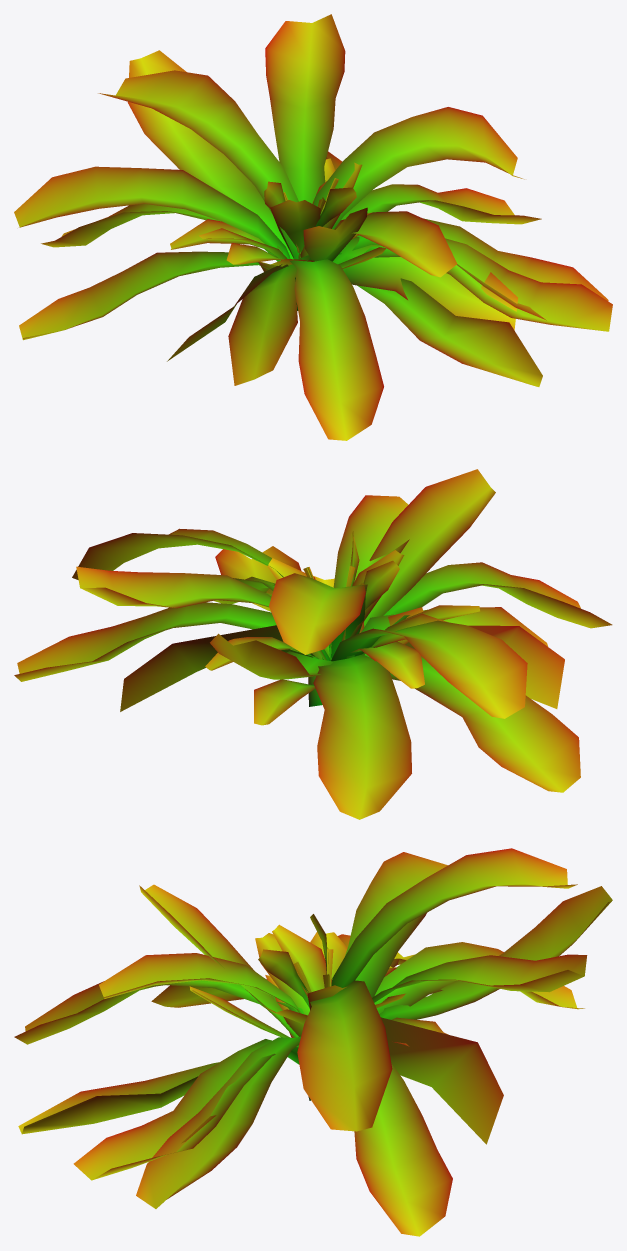
The model's file is Cape Weed_LOD0_Var3_tjmhfcyia.fbx.
3 views of the same model, one above another, from view 1: azimuth 30°, elevation 25°; view 2: azimuth 150°, elevation 25°; view 3: azimuth 270°, elevation 25° (orthographic). The views are drawn at different scales.
Parts seen in each view (by area): view 1: _20ab_Var3_LOD0; view 2: _20ab_Var3_LOD0; view 3: _20ab_Var3_LOD0.
Boxes of the visible parts, x1,y1,x2,y2 form: _20ab_Var3_LOD0: (14, 14, 612, 440); _20ab_Var3_LOD0: (14, 469, 612, 819); _20ab_Var3_LOD0: (14, 848, 612, 1236).
Size of the model in its own units: 38.02 by 13.13 by 34.83.
